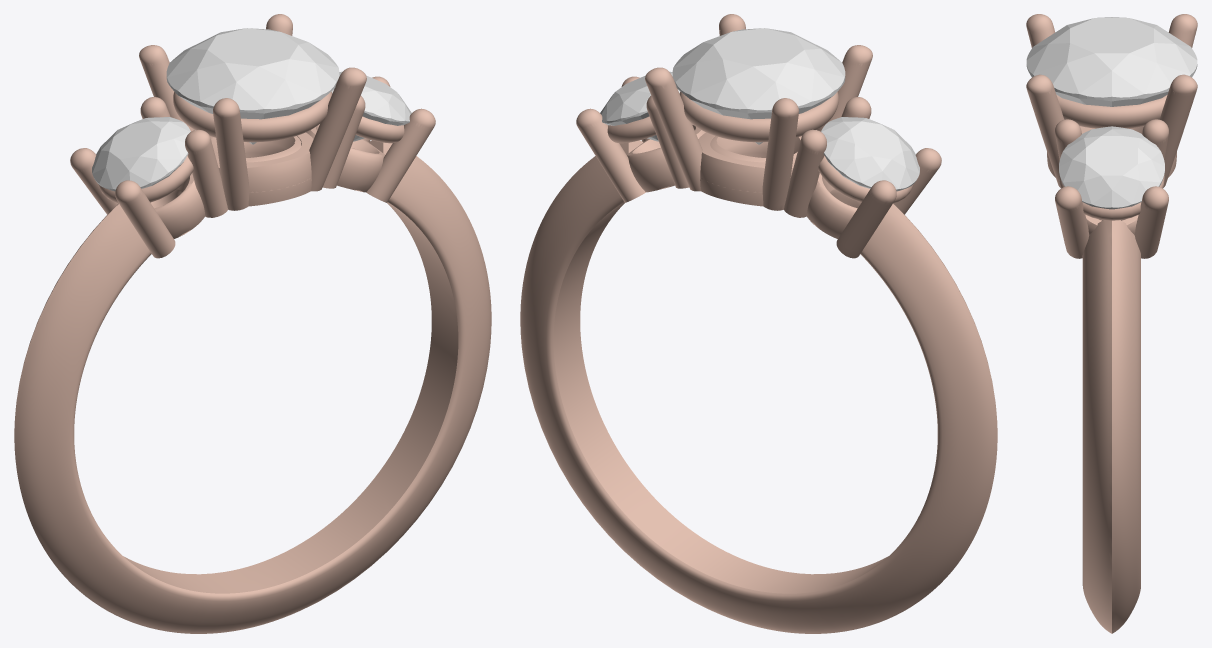
The model's file is diamond-round-rosegold-4prong-knifeedge-2stone.glb.
3 renders of one model, left to right at view 1: azimuth 30°, elevation 25°; view 2: azimuth 150°, elevation 25°; view 3: azimuth 270°, elevation 25°, orthographic.
Visible parts, largest first — view 1: metal, stone, side.001, side; view 2: metal, stone, side.001, side; view 3: metal, stone, side.
Boxes of the visible parts, bbox=[...] form: metal: bbox=[14, 14, 491, 633]; stone: bbox=[166, 28, 339, 144]; side.001: bbox=[92, 117, 190, 191]; side: bbox=[331, 71, 411, 141]; metal: bbox=[520, 14, 997, 633]; stone: bbox=[672, 28, 845, 144]; side.001: bbox=[821, 117, 919, 191]; side: bbox=[600, 71, 680, 141]; metal: bbox=[1026, 14, 1197, 633]; stone: bbox=[1026, 17, 1197, 106]; side: bbox=[1059, 126, 1164, 209].
Bounding box in the file's own units: 20.5 × 23.81 × 6.45.
